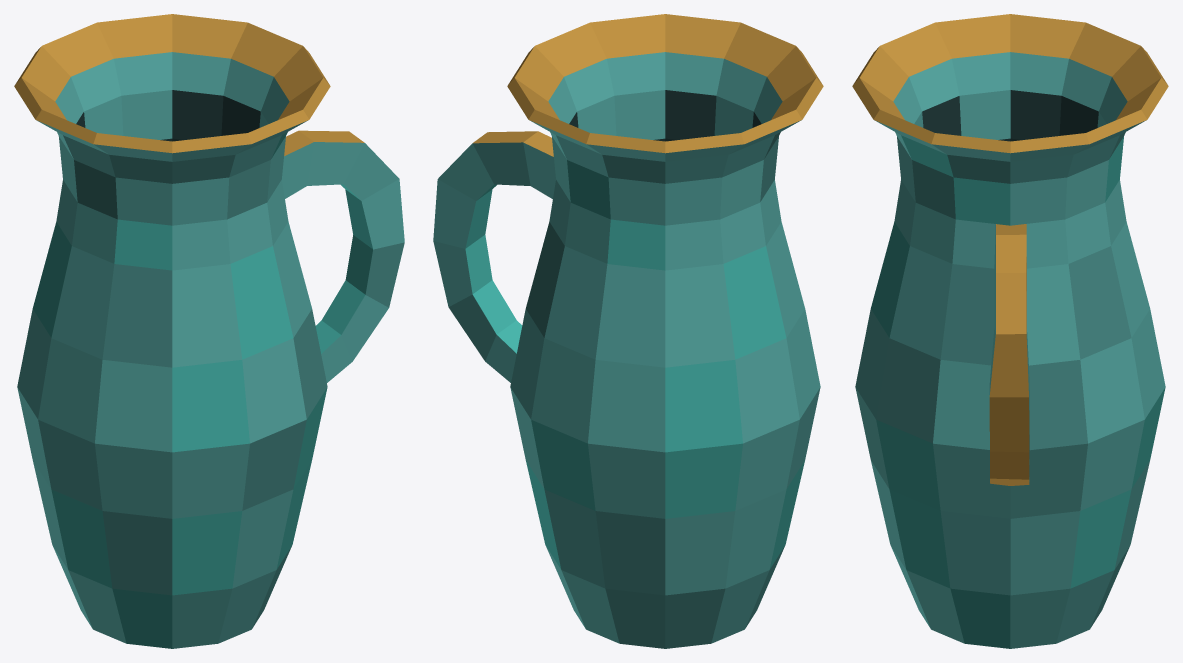
The model's file is vaseArecol.obj.
3 renders of one model, left to right at view 1: azimuth 30°, elevation 25°; view 2: azimuth 150°, elevation 25°; view 3: azimuth 270°, elevation 25°, orthographic.
Parts seen in each view (by area): view 1: Circle; view 2: Circle; view 3: Circle.
Boxes of the visible parts, x1,y1,x2,y2 form: Circle: (14, 14, 404, 648); Circle: (433, 14, 823, 648); Circle: (852, 14, 1168, 648).
Bounding box in the file's own units: 0.6695 × 0.9463 × 0.5098.
